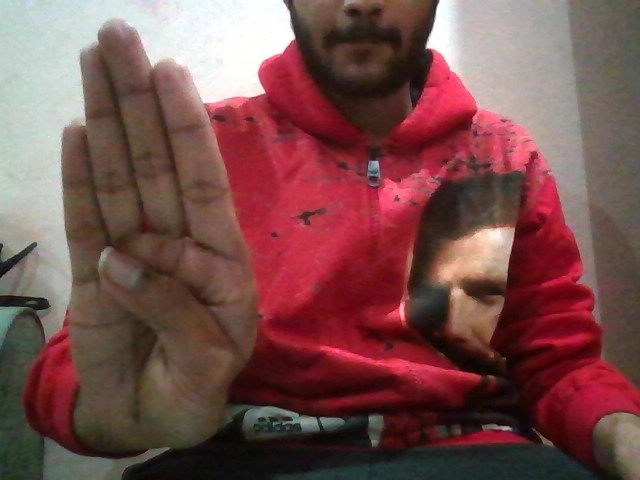B: (39, 12, 272, 459)
